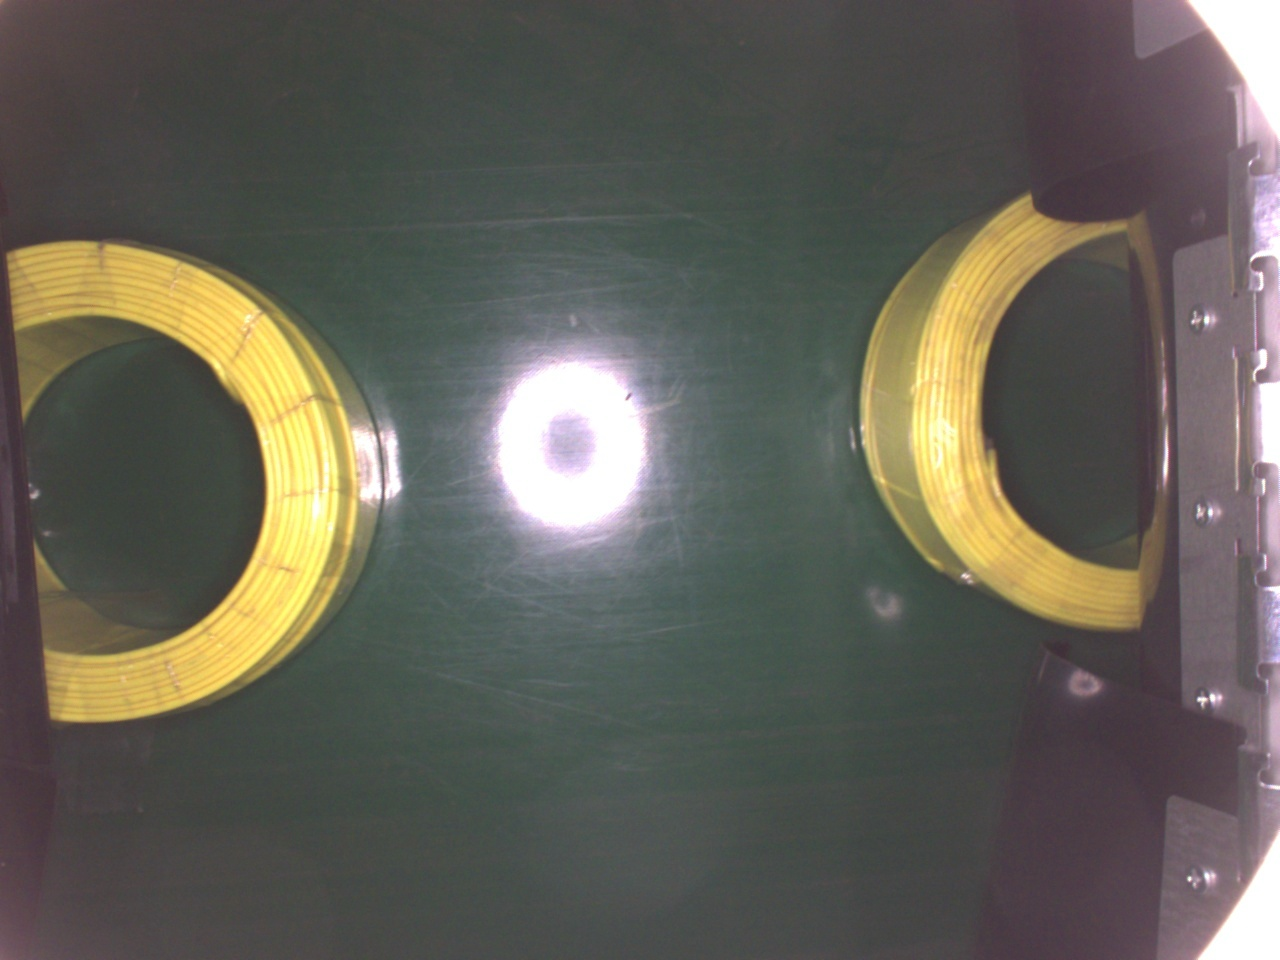yellow: (6, 235, 390, 725), (858, 186, 1146, 633)
